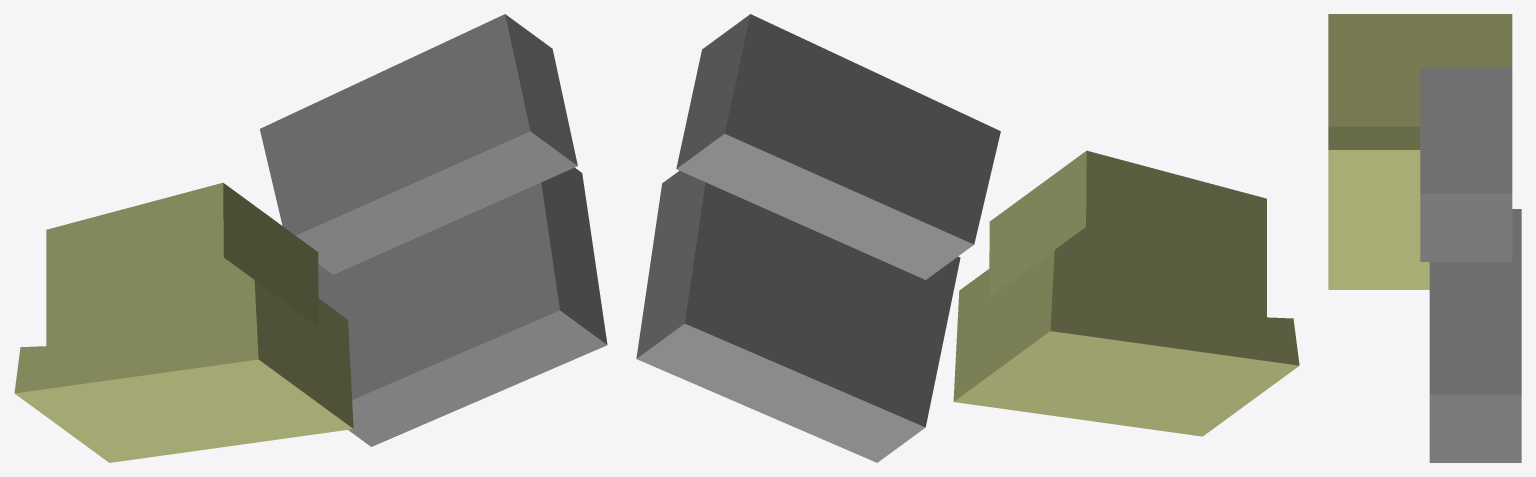
3 renders of one model, left to right at view 1: azimuth 30°, elevation 25°; view 2: azimuth 150°, elevation 25°; view 3: azimuth 270°, elevation 25°, orthographic. The views are drawn at different scales.
Parts seen in each view (by area): view 1: 0_1_0_1_3_3_3_3_2_2; view 2: 0_1_0_1_3_3_3_3_2_2; view 3: 0_1_0_1_3_3_3_3_2_2.
Part boxes in pixels (box(x1,y1,x2,y2)): 0_1_0_1_3_3_3_3_2_2: box(14, 14, 607, 462); 0_1_0_1_3_3_3_3_2_2: box(636, 14, 1299, 462); 0_1_0_1_3_3_3_3_2_2: box(1328, 14, 1521, 462).
Bounding box in the file's own units: 20.07 × 12.5 × 6.3.
